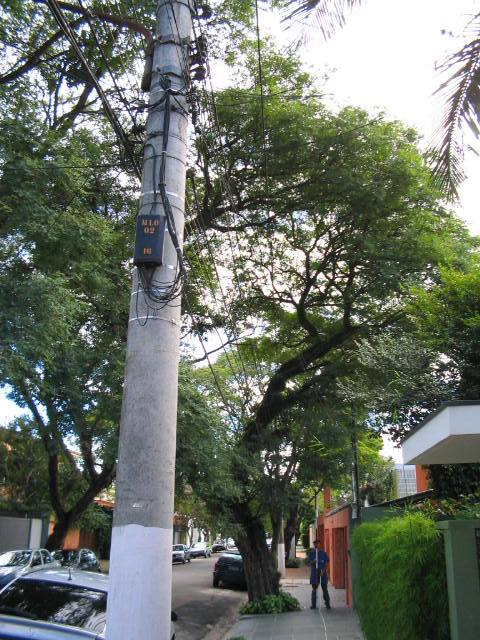stem: (206, 511, 294, 607)
stick: (307, 489, 324, 610)
tree: (2, 34, 474, 612)
